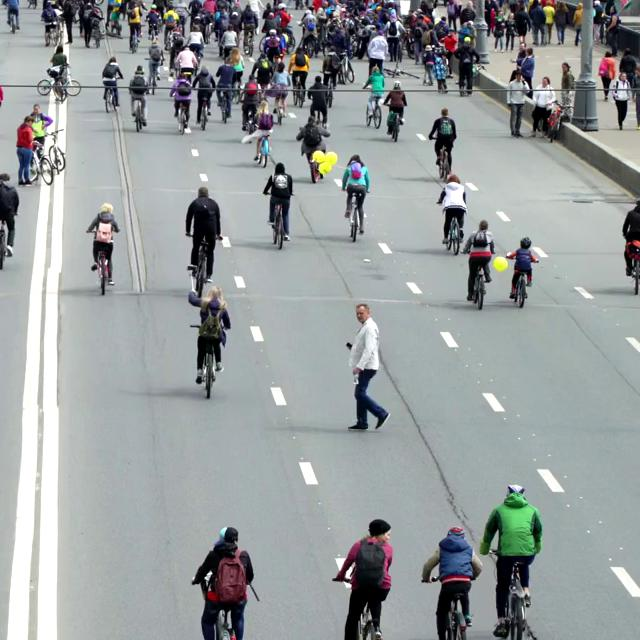bicycle: (488, 550, 537, 639), (332, 577, 382, 639), (422, 576, 471, 639), (189, 324, 225, 399), (199, 574, 236, 639), (462, 245, 495, 313), (86, 229, 117, 295), (186, 236, 212, 298), (510, 260, 538, 308), (440, 206, 466, 255), (545, 100, 573, 143), (345, 190, 367, 242), (28, 141, 54, 185), (431, 134, 455, 181), (43, 128, 66, 173), (457, 61, 486, 96), (382, 103, 404, 142), (363, 89, 383, 129), (269, 202, 286, 249), (128, 91, 147, 132), (102, 77, 123, 113), (253, 132, 272, 167), (271, 88, 288, 125), (382, 64, 420, 80), (216, 88, 233, 122), (307, 149, 324, 183), (337, 52, 354, 84), (436, 145, 451, 181), (175, 101, 191, 134), (291, 73, 305, 107), (196, 97, 210, 130), (324, 80, 334, 108)
